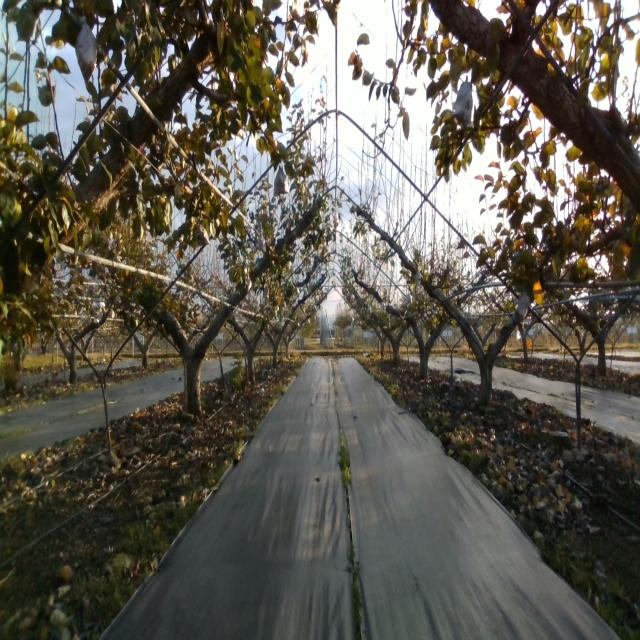pearbags: (74, 14, 98, 84), (451, 77, 473, 124), (274, 165, 290, 195), (517, 285, 530, 321), (192, 223, 210, 245)
